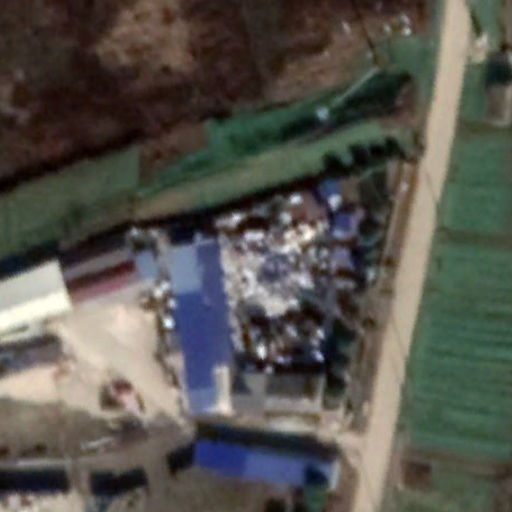msw: (217, 188, 333, 361)
